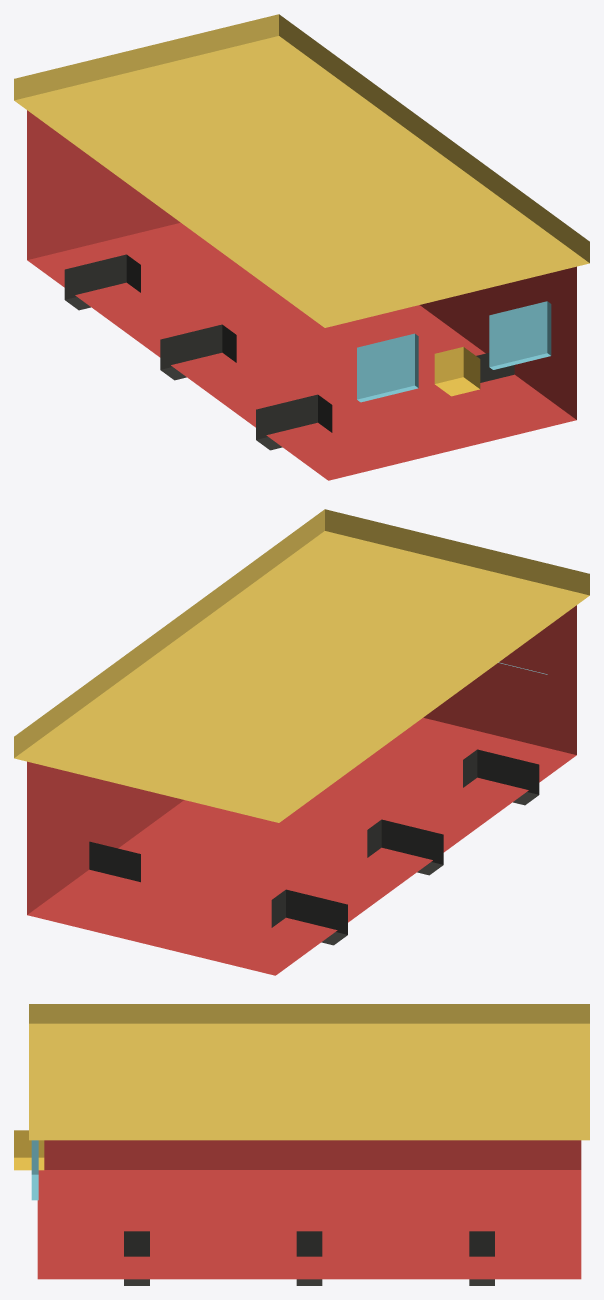
File: train.gltf
3 views of the same model, one above another, from view 1: azimuth 30°, elevation 25°; view 2: azimuth 150°, elevation 25°; view 3: azimuth 270°, elevation 25° (orthographic). The views are drawn at different scales.
Visible parts, largest first — view 1: part1, part0, part3, part2, part4, part6, part8, part10; view 2: part1, part0, part4, part6, part8, part5; view 3: part1, part0, part10, part7, part5, part9, part3.
Boxes of the visible parts, x1,y1,x2,y2 form: part1: (14, 14, 589, 327); part0: (27, 110, 576, 480); part3: (489, 301, 551, 369); part2: (357, 333, 418, 402); part4: (64, 254, 140, 310); part6: (160, 324, 236, 380); part8: (256, 394, 332, 450); part10: (434, 347, 480, 396); part1: (14, 509, 589, 822); part0: (27, 605, 576, 975); part4: (271, 889, 347, 945); part6: (367, 819, 443, 875); part8: (463, 749, 539, 805); part5: (89, 841, 140, 882); part1: (29, 1004, 589, 1140); part0: (37, 1140, 581, 1279); part10: (14, 1130, 44, 1170); part7: (296, 1231, 322, 1285); part5: (469, 1231, 494, 1285); part9: (124, 1231, 149, 1285); part3: (31, 1140, 38, 1200).
Bounding box in the file's own units: 3.25 × 2.1 × 6.67.
